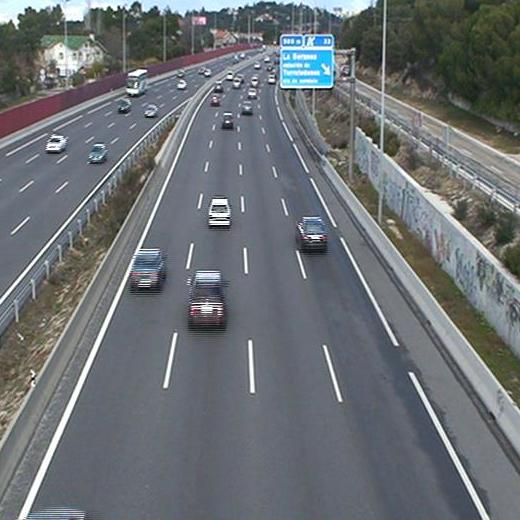car: (186, 267, 227, 329), (129, 245, 167, 290), (293, 212, 327, 251), (205, 197, 232, 226), (221, 109, 236, 129), (240, 98, 255, 114), (209, 93, 221, 108)
